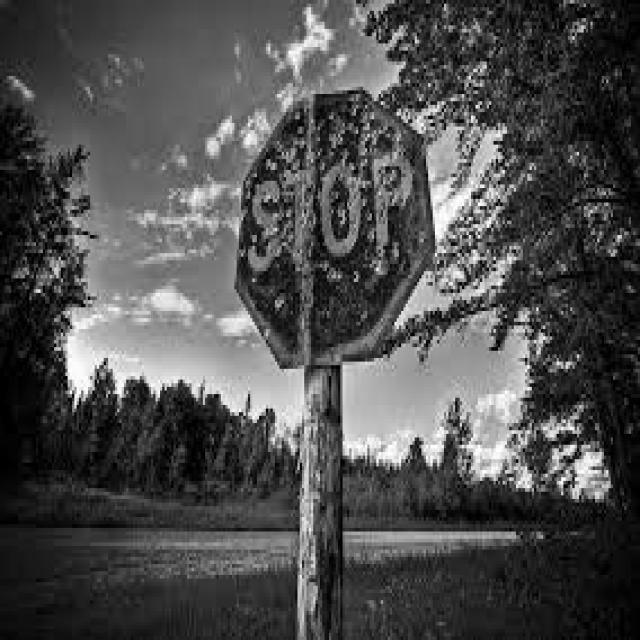stop sign: (240, 82, 428, 364)
